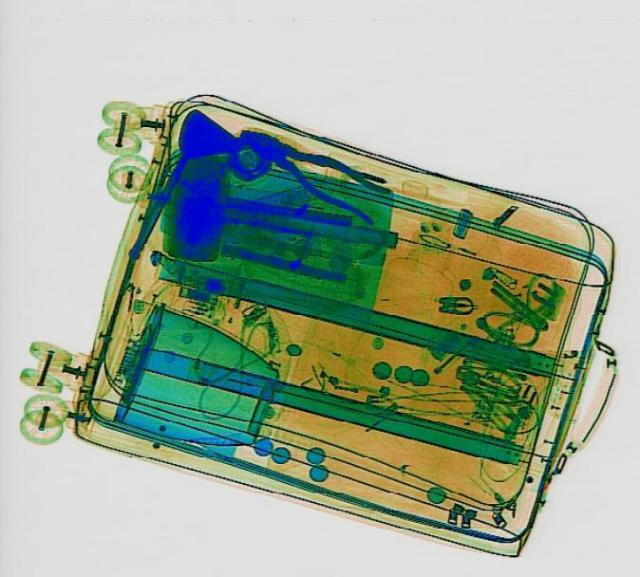Pliers: (227, 114, 397, 225)
